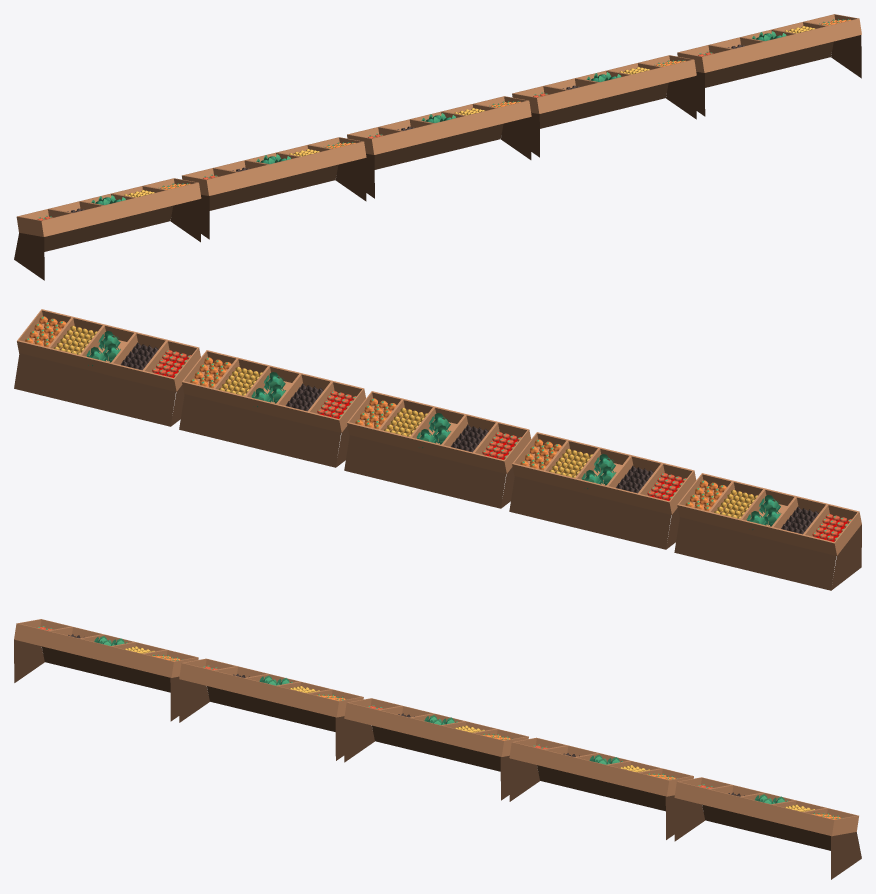
Rendered from ZonaFrutas.fbx.
3 renders of one model, top to bottom at view 1: azimuth 30°, elevation 25°; view 2: azimuth 150°, elevation 25°; view 3: azimuth 330°, elevation 25°, orthographic.
Visible parts, largest first — view 1: EstanteFruta; view 2: EstanteFruta; view 3: EstanteFruta.
Part boxes in pixels (box(x1,y1,x2,y2)): EstanteFruta: box(14, 14, 861, 280); EstanteFruta: box(14, 309, 861, 590); EstanteFruta: box(14, 619, 861, 879).
Size of the model in its own units: 2032 by 147 by 132.
1 material, 1 textured.
